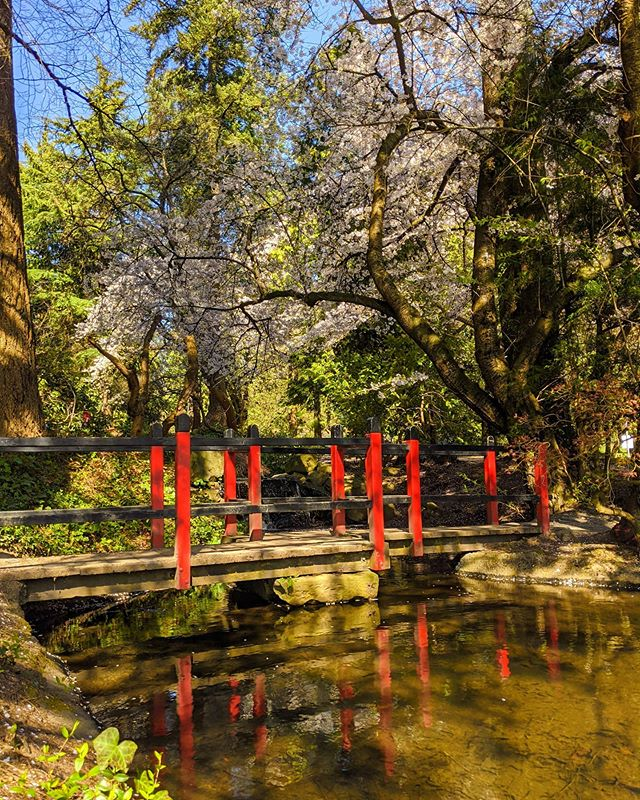bridge: (32, 435, 587, 625)
river: (88, 554, 640, 800)
tree: (1, 1, 428, 404), (311, 46, 609, 457)
